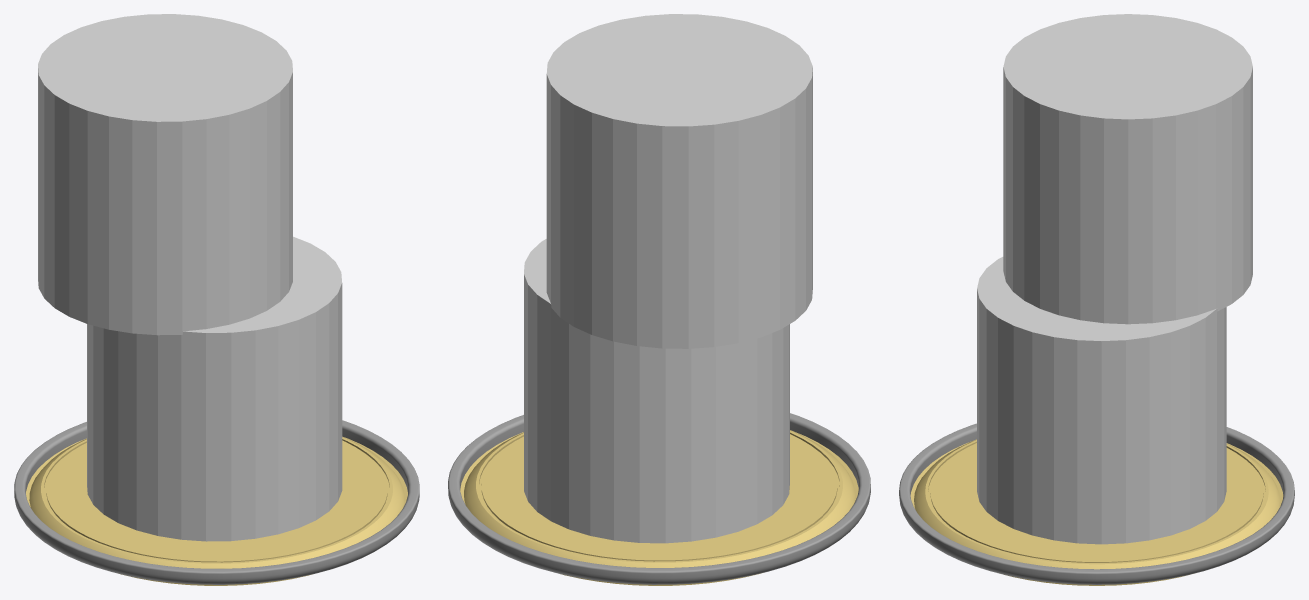
File: Tower Lvl 2 Test.fbx
3 renders of one model, left to right at view 1: azimuth 30°, elevation 25°; view 2: azimuth 150°, elevation 25°; view 3: azimuth 270°, elevation 25°, orthographic. The views are drawn at different scales.
Visible parts, largest first — view 1: Cylinder.008, Cylinder.007, Cylinder.006; view 2: Cylinder.008, Cylinder.007, Cylinder.006; view 3: Cylinder.008, Cylinder.007, Cylinder.006.
Boxes of the visible parts, x1,y1,x2,y2 form: Cylinder.008: [38, 14, 292, 335]; Cylinder.007: [87, 236, 342, 541]; Cylinder.006: [14, 420, 419, 585]; Cylinder.008: [546, 14, 812, 348]; Cylinder.007: [524, 239, 789, 543]; Cylinder.006: [448, 413, 870, 585]; Cylinder.008: [1003, 14, 1252, 324]; Cylinder.007: [977, 257, 1226, 544]; Cylinder.006: [899, 423, 1294, 585].
Bounding box in the file's own units: 200 × 238 × 200.
